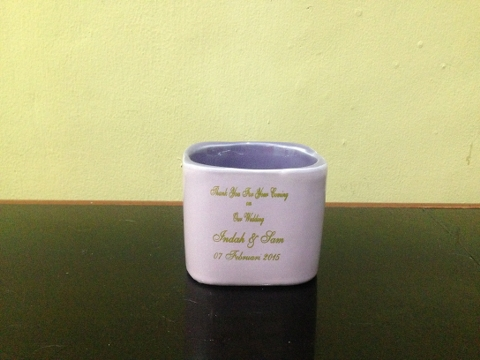tempat minum: (183, 141, 328, 286)
